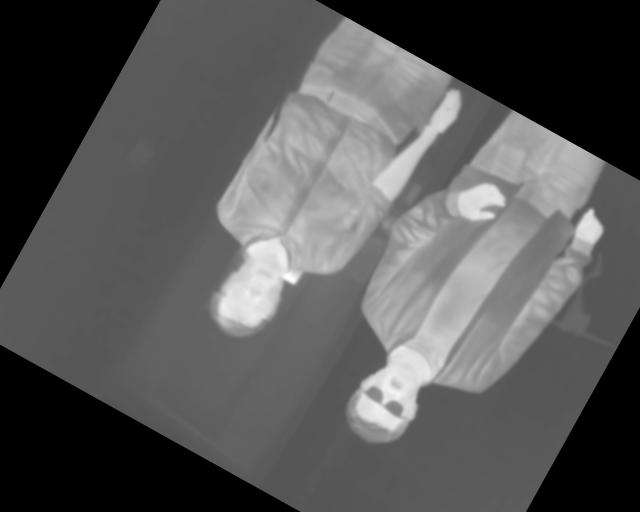face: (334, 345, 438, 459), (200, 239, 301, 351)
